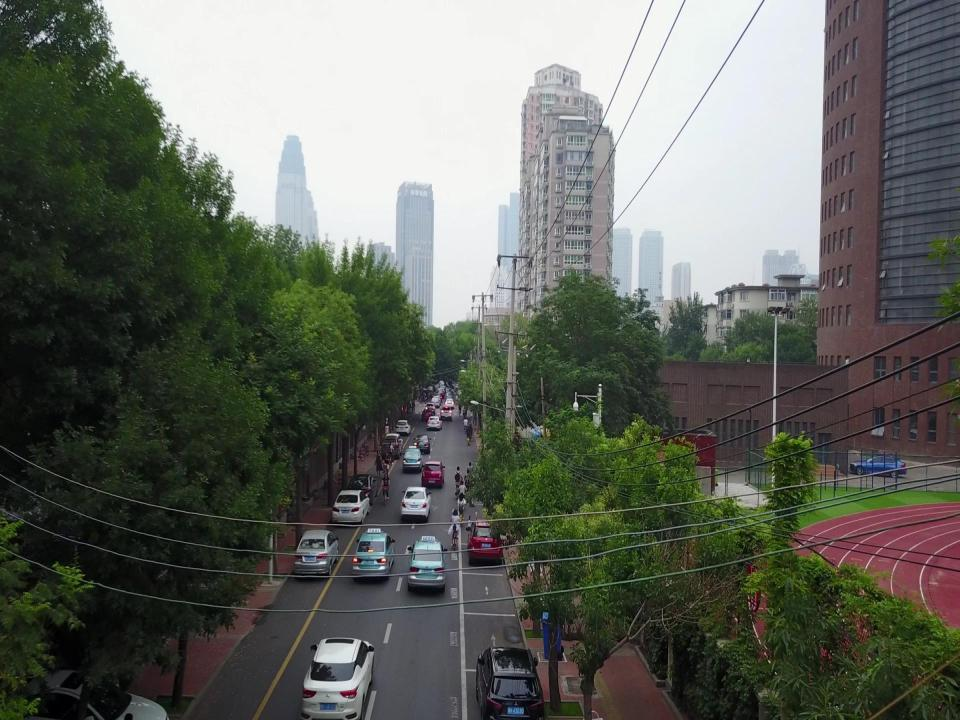car: (10, 667, 169, 720), (302, 638, 374, 719), (476, 647, 544, 720), (352, 528, 396, 582), (406, 536, 448, 591), (294, 529, 340, 578), (466, 518, 503, 567), (849, 453, 907, 477), (332, 491, 370, 524), (400, 487, 432, 522), (348, 474, 378, 505), (421, 461, 445, 489), (378, 436, 402, 460), (402, 446, 424, 472), (412, 434, 431, 454), (383, 433, 403, 450), (394, 419, 410, 435), (427, 416, 443, 431), (421, 408, 433, 420), (426, 403, 436, 414)
